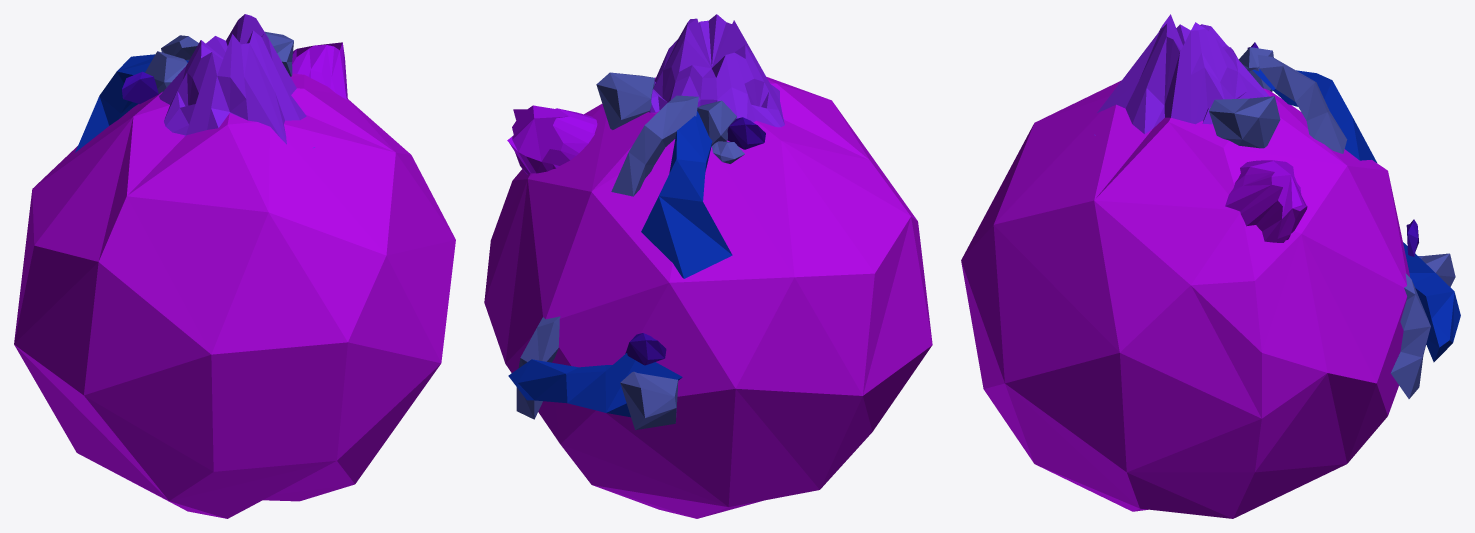
Rendered from lowpoly_crystalPlanet.fbx.
3 views of the same model, side by side, from view 1: azimuth 30°, elevation 25°; view 2: azimuth 150°, elevation 25°; view 3: azimuth 270°, elevation 25° (orthographic).
Parts seen in each view (by area): view 1: pSphere7, pCone1, pCube4, pCone2, pSphere9, pSphere8, pSphere11, pCube3; view 2: pSphere7, pCone1, pCube4, pCube5, pCone2, pCube3, pSphere13, pSphere11, pCube6, pSphere9, pSphere12, pSphere8 (+1 smaller); view 3: pSphere7, pCone1, pCone2, pCube3, pCube5, pSphere11, pCube6, pCube4, pSphere13, pSphere9.
Boxes of the visible parts, x1,y1,x2,y2 form: pSphere7: (14,73,455,518); pCone1: (159,14,314,148); pCube4: (75,54,188,152); pCone2: (292,42,347,99); pSphere9: (145,51,187,93); pSphere8: (122,71,158,103); pSphere11: (265,31,293,76); pCube3: (161,35,198,60); pSphere7: (484,77,932,518); pCone1: (648,14,784,127); pCube4: (641,111,732,278); pCube5: (508,353,682,417); pCone2: (507,105,597,174); pCube3: (611,95,698,196); pSphere13: (620,371,678,430); pSphere11: (596,72,654,129); pCube6: (516,316,560,419); pSphere9: (697,100,736,145); pSphere12: (625,333,666,365); pSphere8: (727,117,765,149); pSphere7: (961,80,1409,518); pCone1: (1094,14,1277,135); pCone2: (1225,160,1307,242); pCube3: (1257,55,1347,153); pCube5: (1403,242,1460,362); pSphere11: (1209,96,1280,148); pCube6: (1390,273,1430,398); pCube4: (1252,69,1376,162); pSphere13: (1418,253,1455,286); pSphere9: (1238,47,1273,91).
Size of the model in its own units: 15.94 by 19.64 by 18.23.
